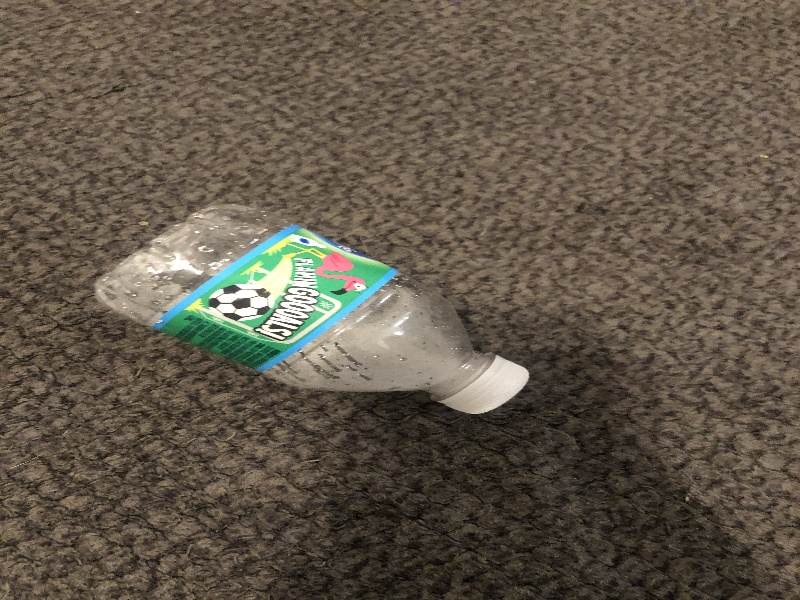plastic: (93, 202, 535, 424)
